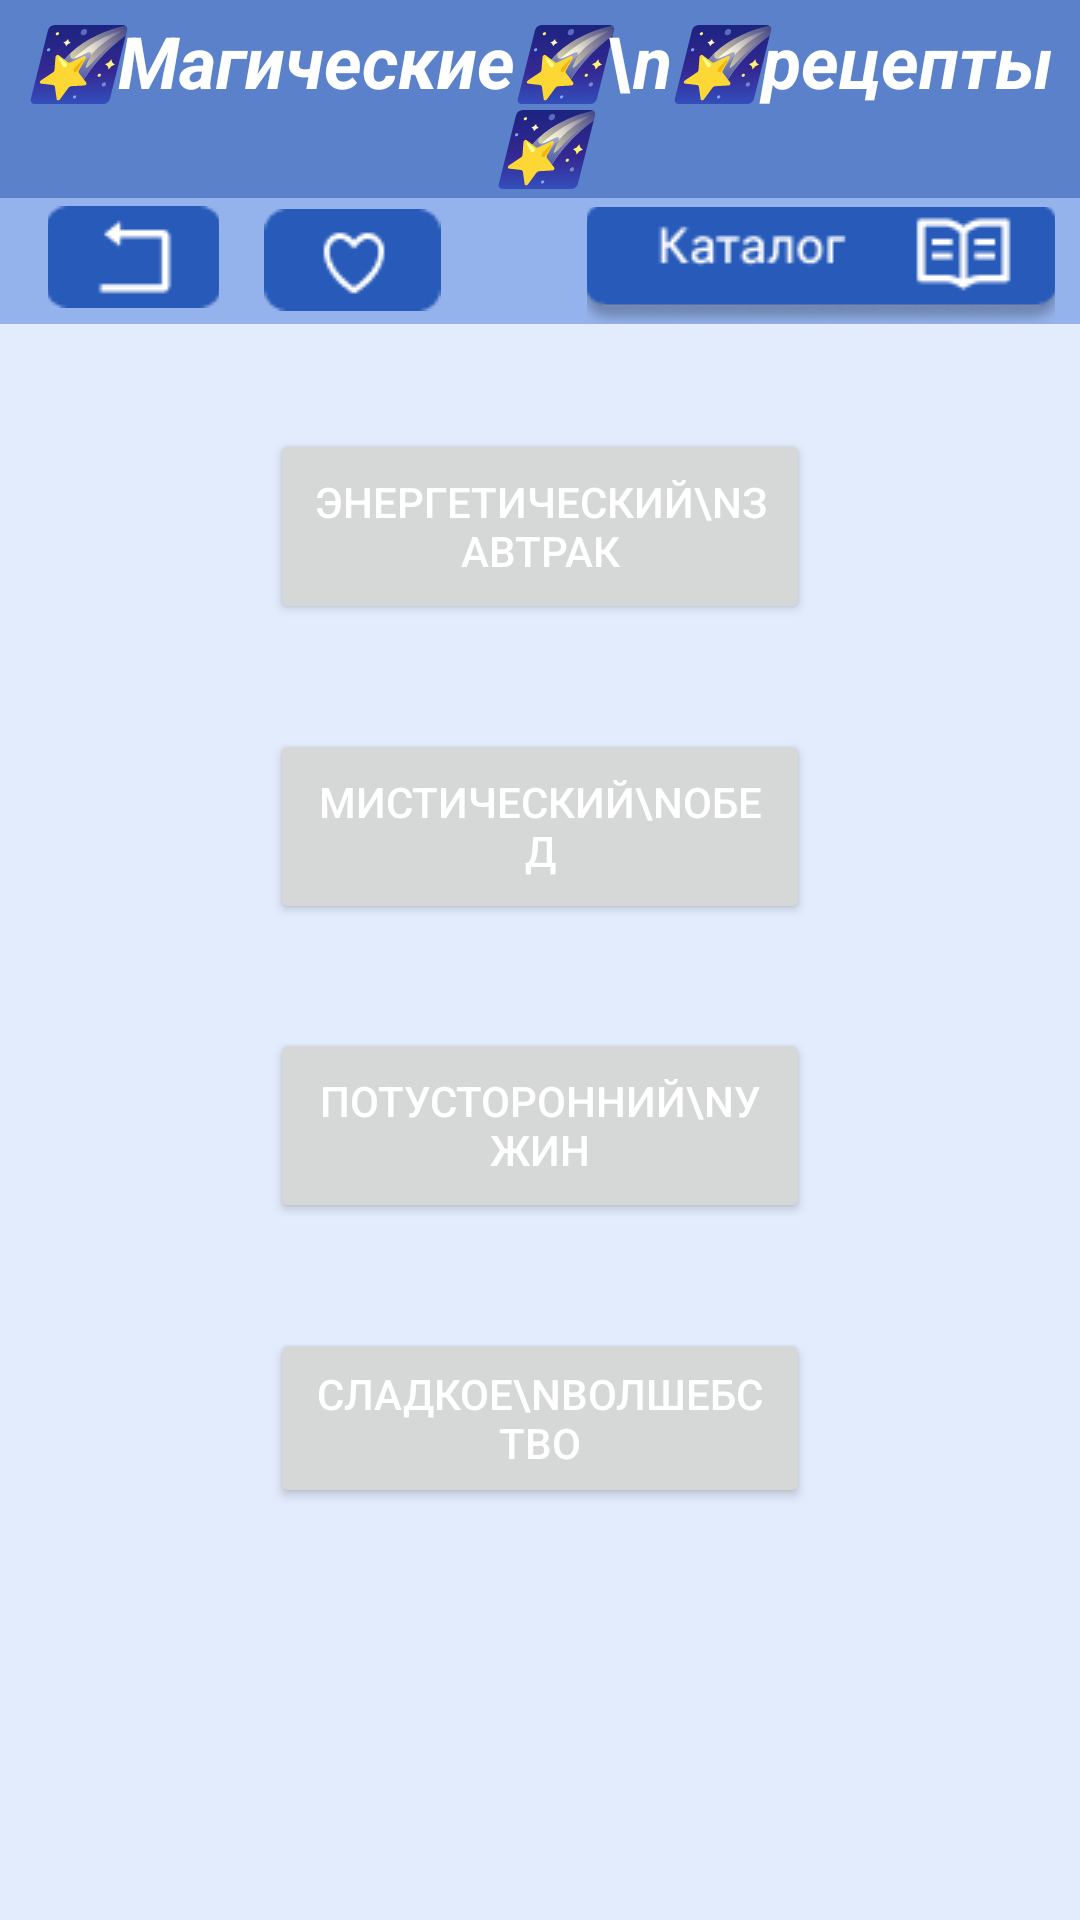

Named icons in this screenshot (1080x1920) and their bounding boxes, (x1, y1, x2, y2):
exitaccount: (48, 206, 219, 308)
favouritebutton: (264, 209, 441, 311)
